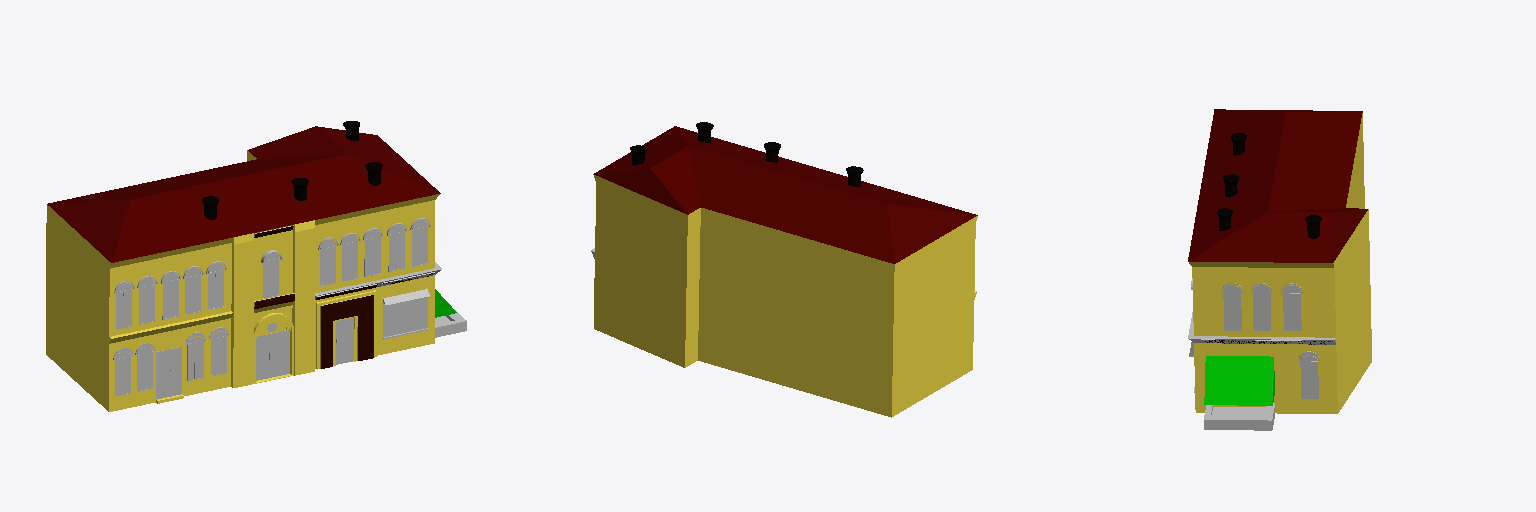
File: hotel_moskva.obj
The picture shows the model from 3 angles: view 1: azimuth 30°, elevation 25°; view 2: azimuth 150°, elevation 25°; view 3: azimuth 270°, elevation 25°; orthographic projection.
Parts seen in each view (by area): view 1: SketchUp, SketchUp.001, SketchUp.214, SketchUp.202, SketchUp.207, SketchUp.197, SketchUp.203, SketchUp.212; view 2: SketchUp, SketchUp.001; view 3: SketchUp.001, SketchUp, SketchUp.211, SketchUp.212, SketchUp.024.
Part boxes in pixels (x1,y1,x2,y2): SketchUp: (46,150,439,411); SketchUp.001: (47,126,440,262); SketchUp.214: (321,295,373,368); SketchUp.202: (256,330,289,380); SketchUp.207: (383,297,427,336); SketchUp.197: (156,347,181,399); SketchUp.203: (336,317,353,364); SketchUp.212: (435,309,466,337); SketchUp: (593,174,977,417); SketchUp.001: (594,126,977,263); SketchUp.001: (1188,109,1367,262); SketchUp: (1189,113,1371,413); SketchUp.211: (1204,356,1274,405); SketchUp.212: (1204,403,1274,430); SketchUp.024: (1188,312,1335,344).
Bounding box in the file's own units: 2.85 × 1.42 × 1.28.